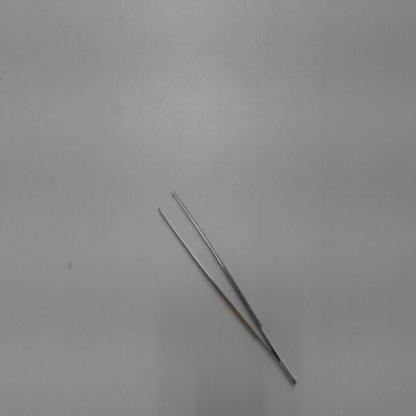Gillies Toothed Dissector: (156, 167, 306, 398)
